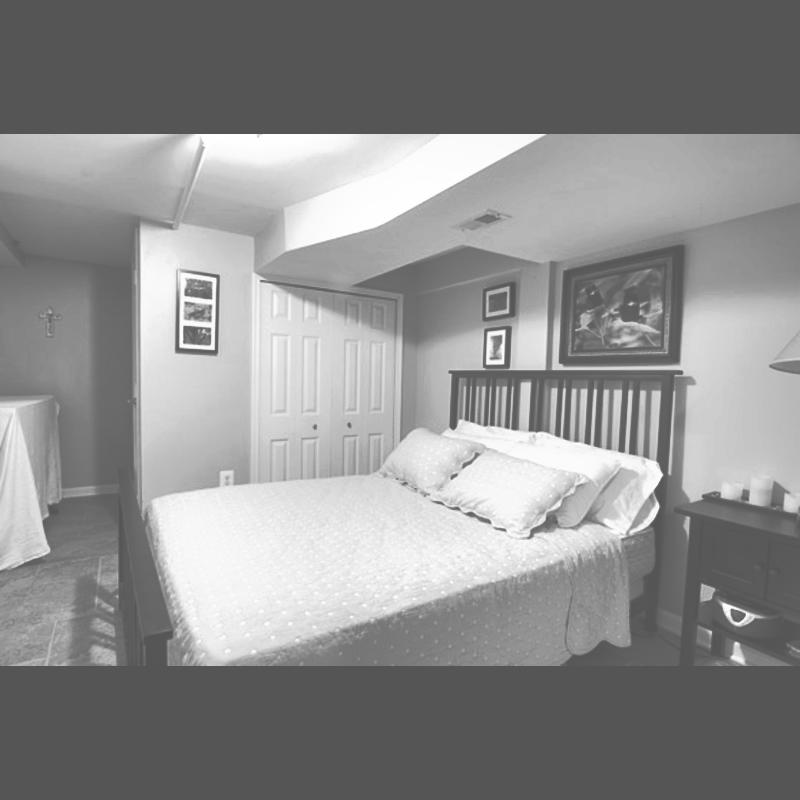pillow: (533, 426, 665, 542), (434, 442, 592, 534), (510, 437, 612, 531), (374, 424, 476, 501), (442, 420, 518, 457), (437, 427, 493, 451)
